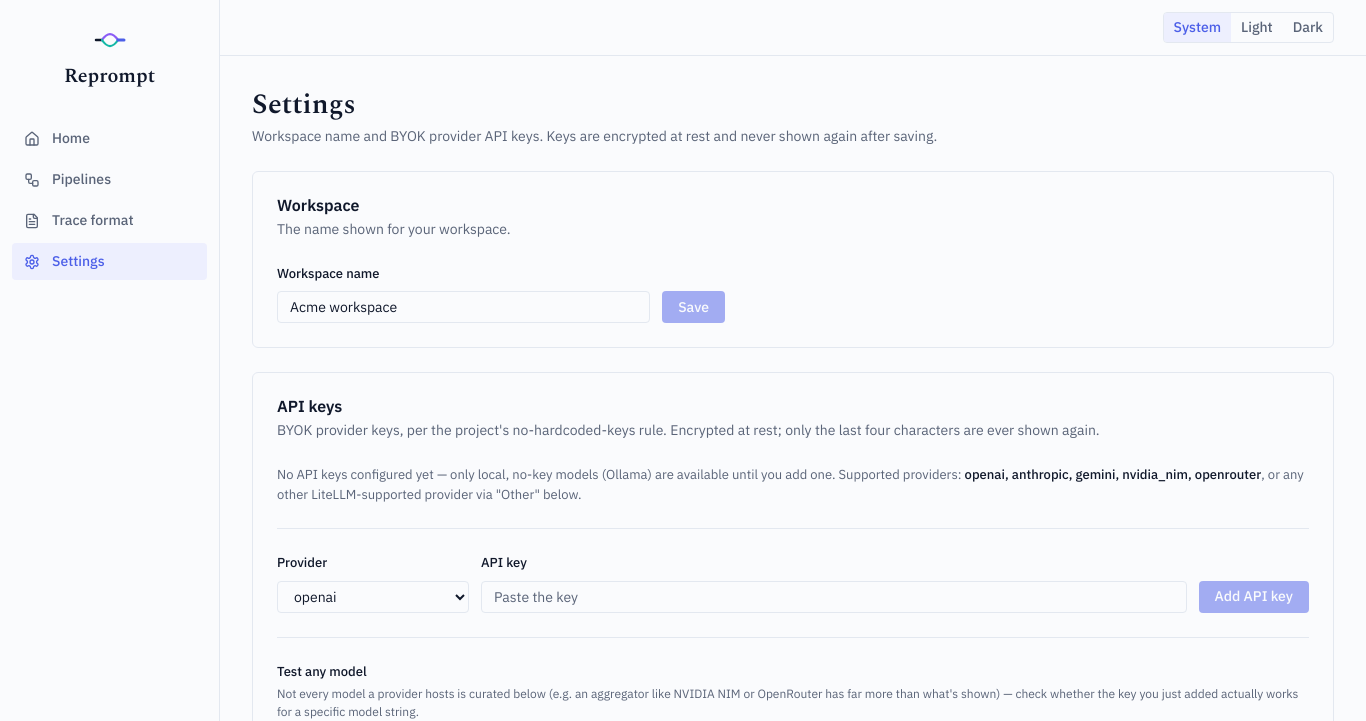
Scenario: Settings › adds an API key and clears the form so the key never reappears
Expected: the text "No API keys configured yet" is shown, 277,466 -> 962,484
Select "anthropic" in the dropdown labelled "Provider" at (373, 597), box 277,581 -> 469,613
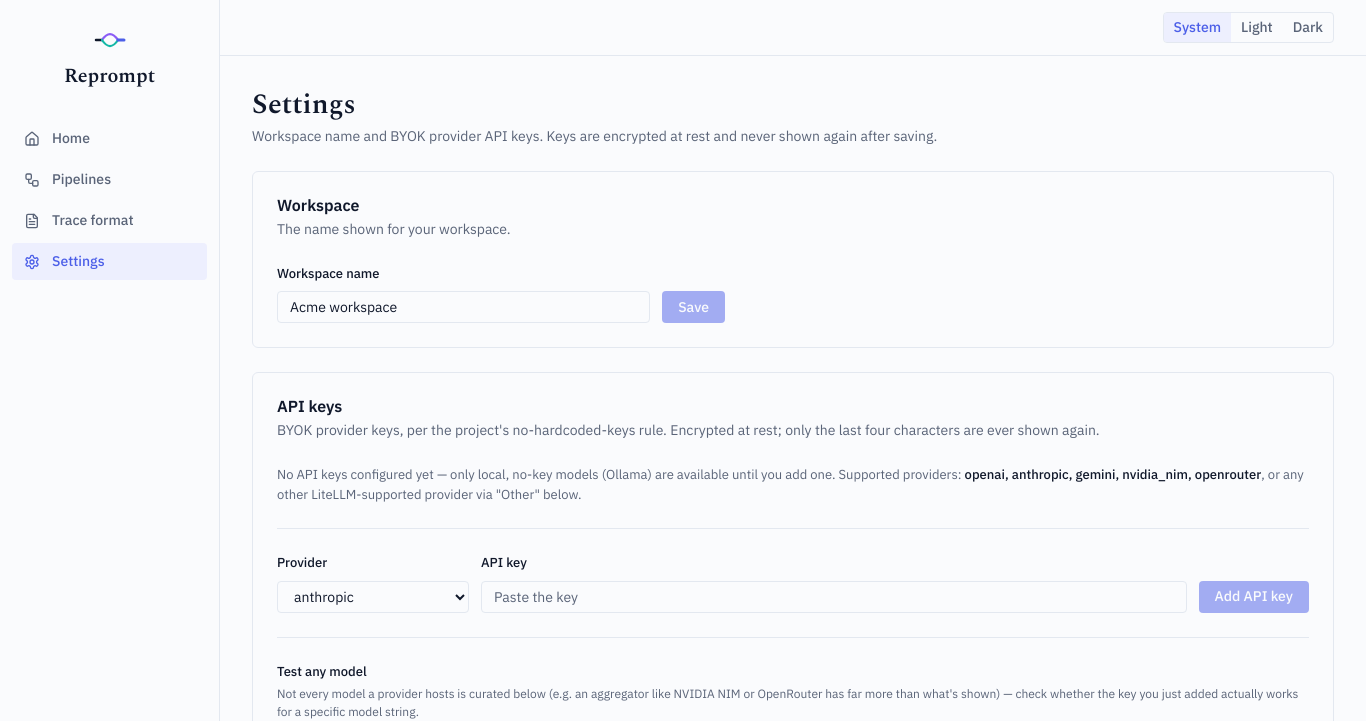
Type "sk-ant-abcdz9y8" into the password field labelled "API key" at (834, 597), box 481,581 -> 1186,613
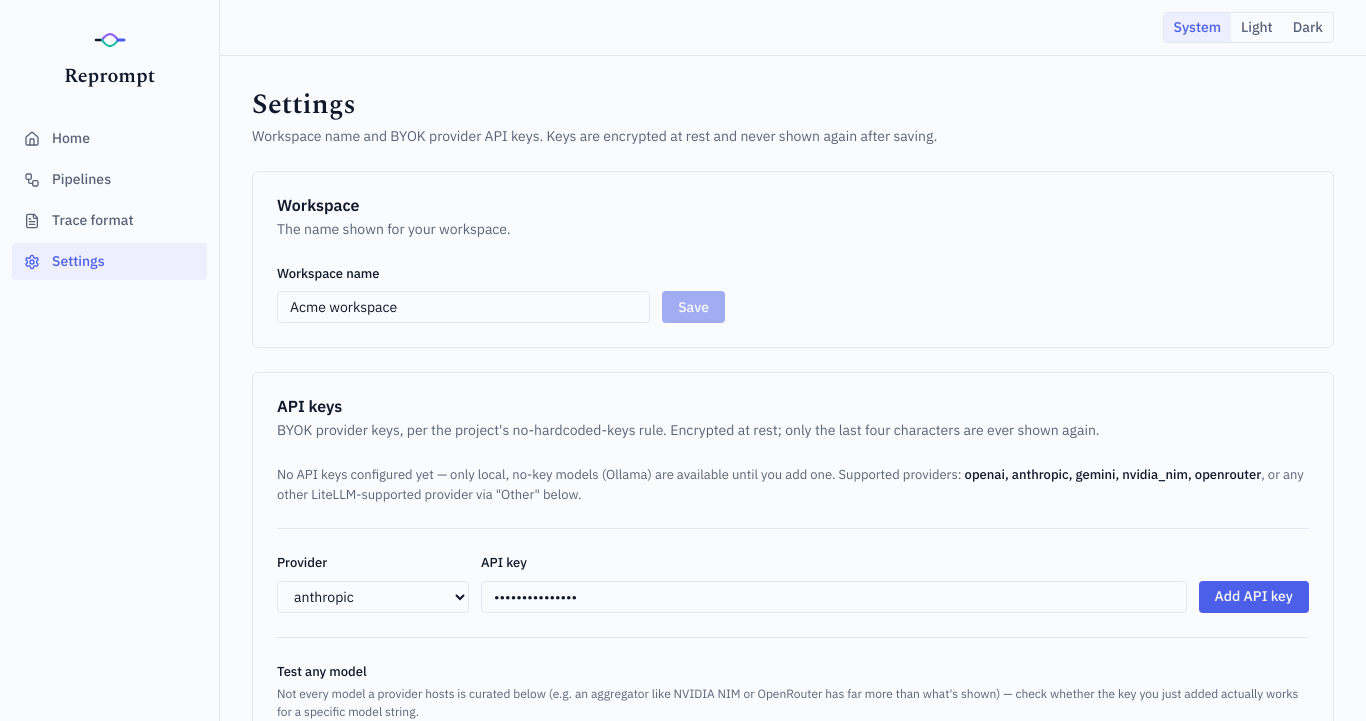
Click the button "Add API key" at (1254, 597), box 1198,581 -> 1309,613
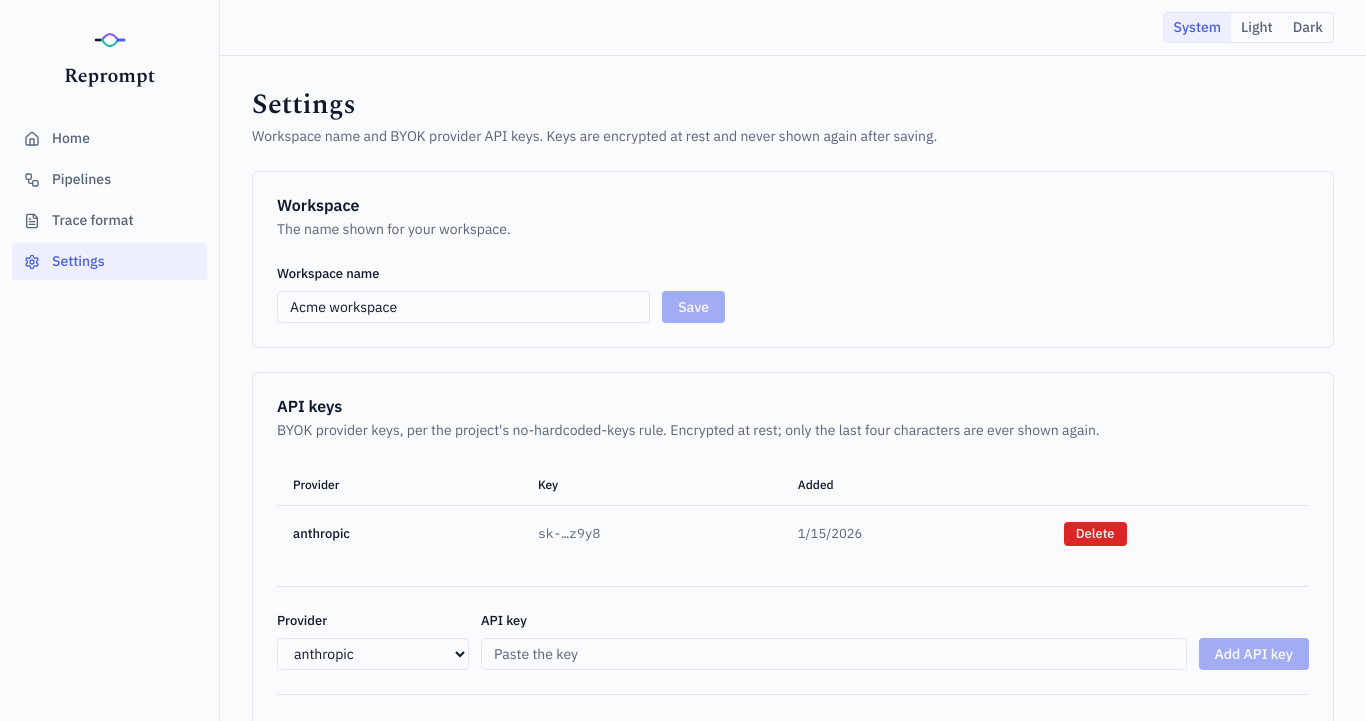
Expected: the cell "anthropic" is shown, 277,506 -> 522,562
Now the password field labelled "API key" is empty, box 481,638 -> 1186,670
Now the text "sk-…z9y8" is shown, box 522,506 -> 782,562
